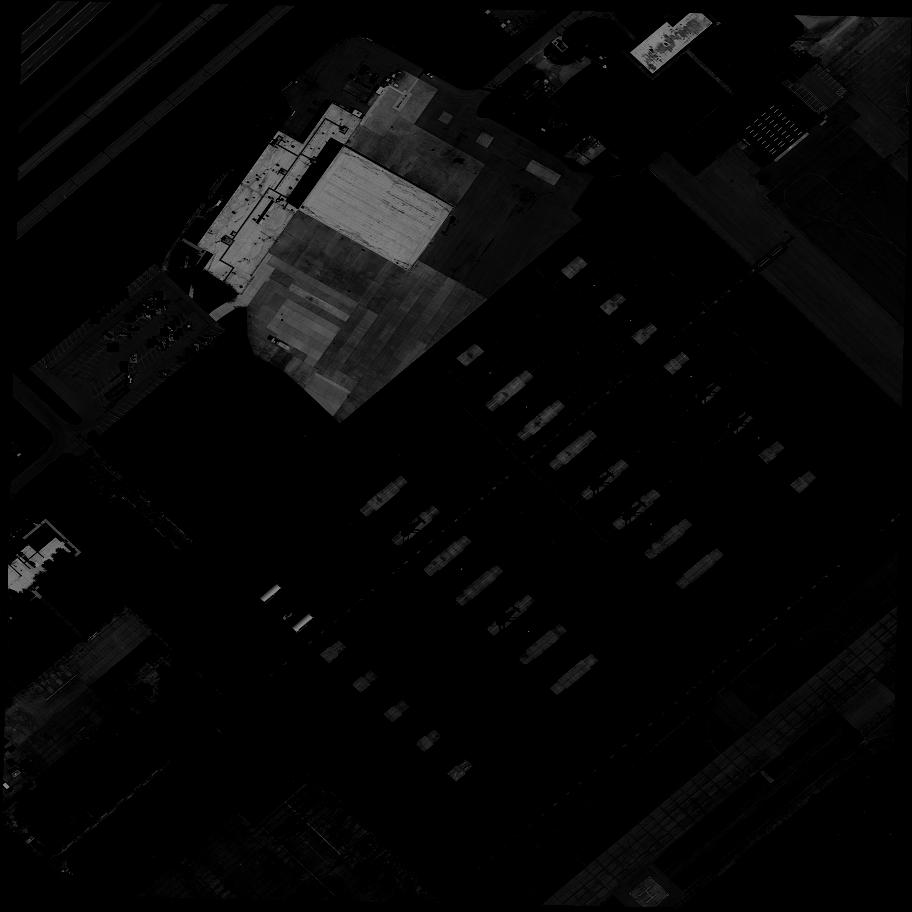ship: (27, 766, 39, 777), (22, 760, 33, 772)
small-vehicle: (164, 324, 175, 335), (759, 176, 771, 186), (107, 343, 119, 353), (104, 331, 115, 341), (90, 314, 100, 325), (125, 313, 137, 322), (186, 348, 198, 357), (143, 298, 154, 307), (120, 361, 128, 373), (153, 291, 163, 300), (201, 337, 211, 346), (139, 302, 150, 310), (160, 371, 172, 378), (156, 302, 166, 310), (112, 295, 120, 305), (152, 306, 161, 314), (107, 300, 115, 309), (23, 517, 31, 526), (125, 375, 133, 384), (191, 344, 200, 352), (178, 357, 190, 363), (133, 306, 143, 313), (104, 304, 111, 314), (130, 354, 137, 364), (170, 321, 177, 331), (148, 338, 155, 348), (11, 528, 19, 536), (117, 293, 124, 302), (18, 522, 27, 529), (160, 328, 167, 337), (579, 54, 586, 62), (174, 317, 181, 325), (14, 526, 23, 532), (146, 310, 156, 315), (159, 343, 166, 350), (173, 332, 179, 340), (128, 327, 139, 331), (187, 323, 193, 330), (159, 300, 169, 304), (124, 288, 128, 297), (205, 336, 214, 340), (152, 336, 156, 345), (149, 297, 157, 301), (169, 335, 174, 341), (101, 308, 105, 315), (142, 315, 151, 318), (178, 328, 181, 335), (121, 334, 130, 336), (131, 312, 139, 314), (166, 339, 168, 347)
